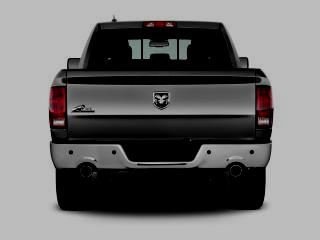ram: (151, 88, 171, 112)
